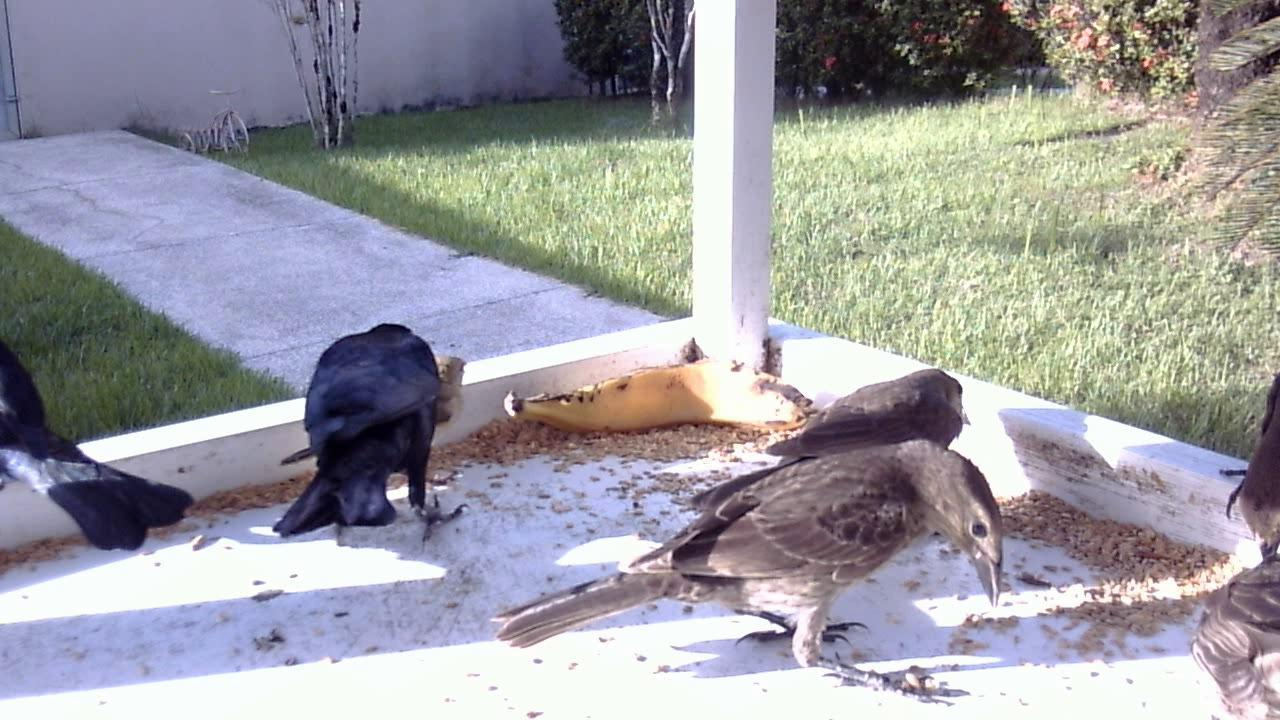chupim: (488, 379, 1008, 688), (255, 305, 482, 551), (3, 326, 206, 564), (762, 360, 982, 488), (1160, 564, 1280, 720), (1196, 364, 1280, 565)
